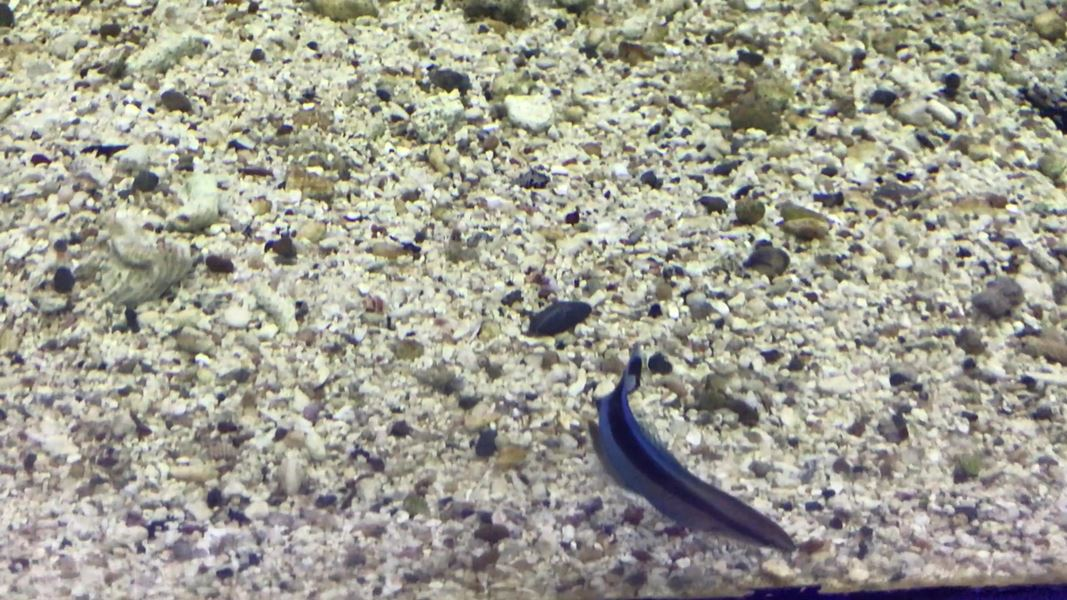Bluesteak cleaner wrasse: (579, 350, 803, 569)
